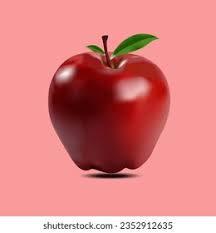apple: (45, 31, 173, 174)
